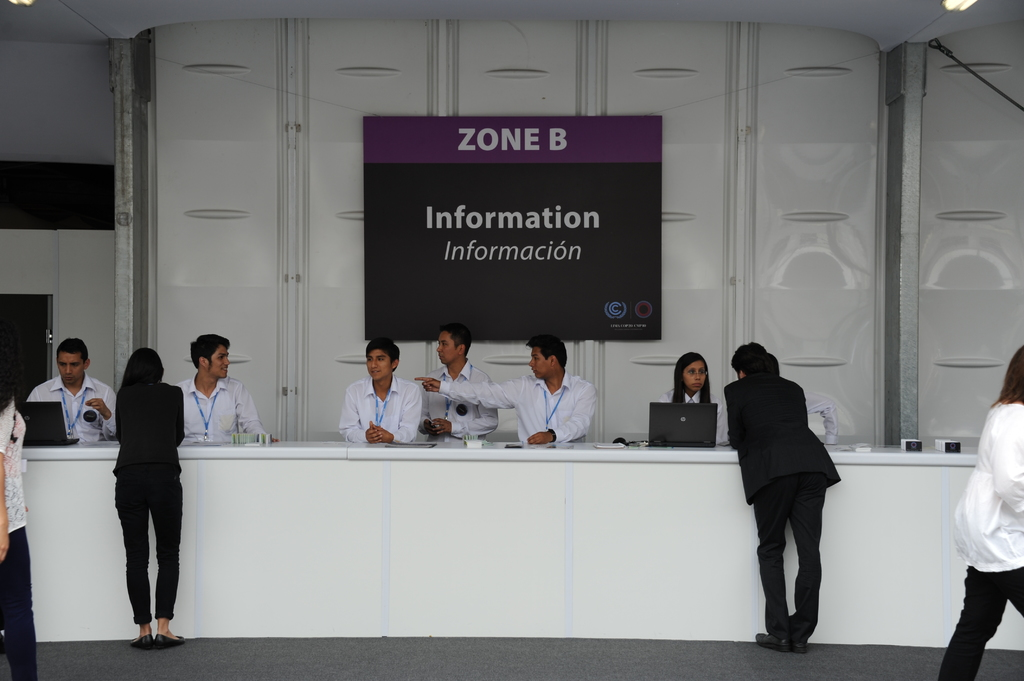Footwear: (755, 633, 790, 653), (156, 633, 184, 644), (131, 634, 154, 645), (790, 643, 810, 655)
